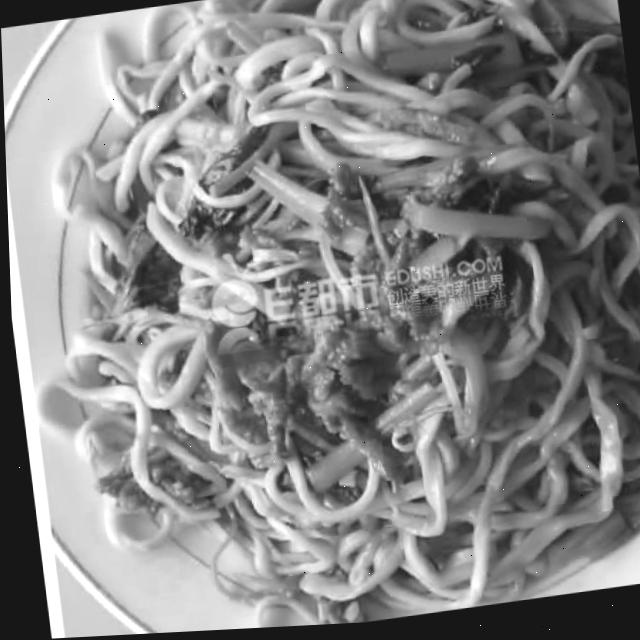面条主食: (13, 0, 640, 639)
